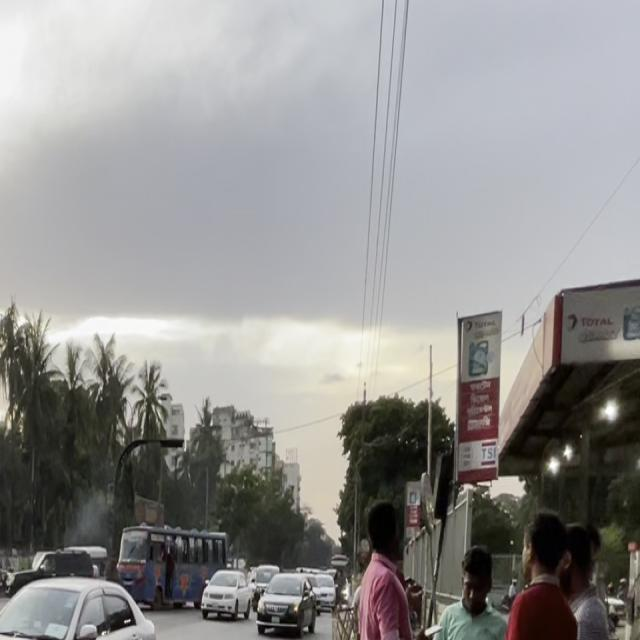bus: (116, 516, 236, 601)
car: (0, 562, 187, 639), (249, 567, 323, 640), (190, 565, 252, 620), (0, 510, 6, 638)
